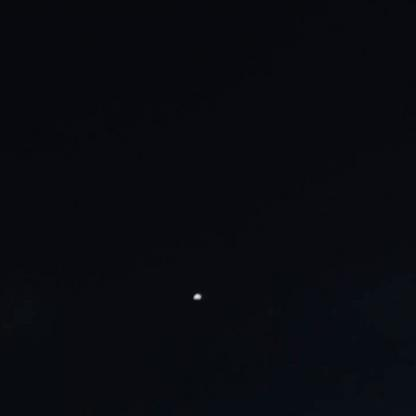ball: (188, 288, 208, 305)
